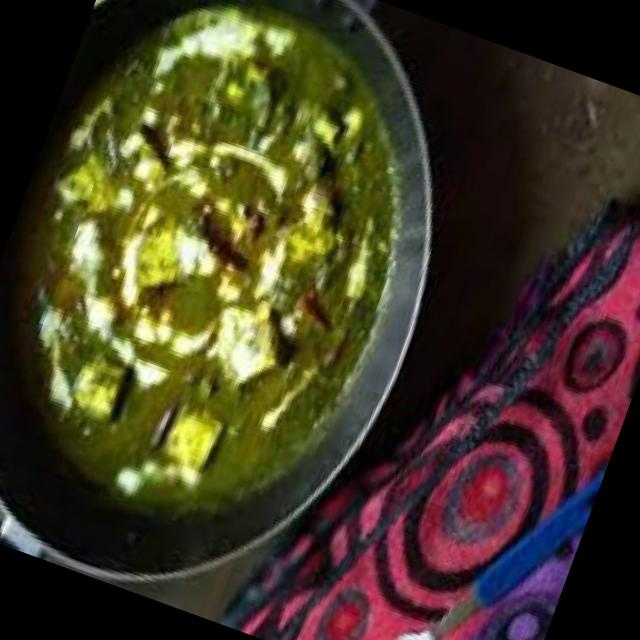palak_paneer: (0, 0, 463, 559)
